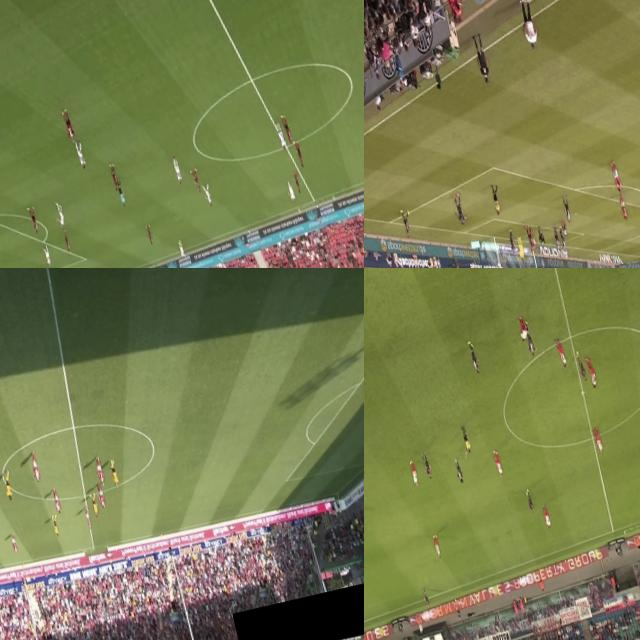player: (60, 106, 77, 142), (584, 352, 600, 390), (466, 338, 482, 375), (105, 160, 122, 194), (168, 152, 184, 185), (0, 468, 16, 501), (608, 158, 622, 194), (515, 312, 531, 343), (107, 458, 122, 490), (522, 324, 537, 356), (554, 336, 569, 368), (452, 192, 466, 225), (574, 349, 588, 382), (419, 450, 434, 480), (281, 110, 294, 144), (190, 162, 203, 195), (28, 449, 41, 482), (400, 210, 414, 239), (452, 454, 465, 485), (276, 119, 288, 152), (591, 426, 605, 454), (293, 138, 306, 168), (87, 492, 102, 518), (408, 456, 420, 487), (75, 144, 89, 170), (28, 206, 40, 235), (492, 448, 504, 477), (54, 202, 66, 230), (42, 240, 54, 268), (514, 236, 528, 260), (541, 502, 553, 530), (94, 456, 105, 486), (562, 196, 574, 223), (62, 230, 74, 256), (431, 532, 443, 558), (524, 488, 536, 514), (51, 488, 62, 516), (96, 484, 108, 509), (82, 506, 94, 530), (617, 195, 628, 221), (525, 226, 536, 252), (506, 227, 516, 255), (50, 514, 61, 538), (8, 532, 20, 554), (292, 170, 302, 196), (285, 180, 296, 203), (144, 226, 156, 247), (203, 184, 213, 208), (558, 229, 568, 253), (534, 228, 546, 247), (177, 239, 187, 260), (553, 229, 562, 251), (422, 588, 431, 610), (524, 230, 534, 248), (560, 220, 568, 238)
